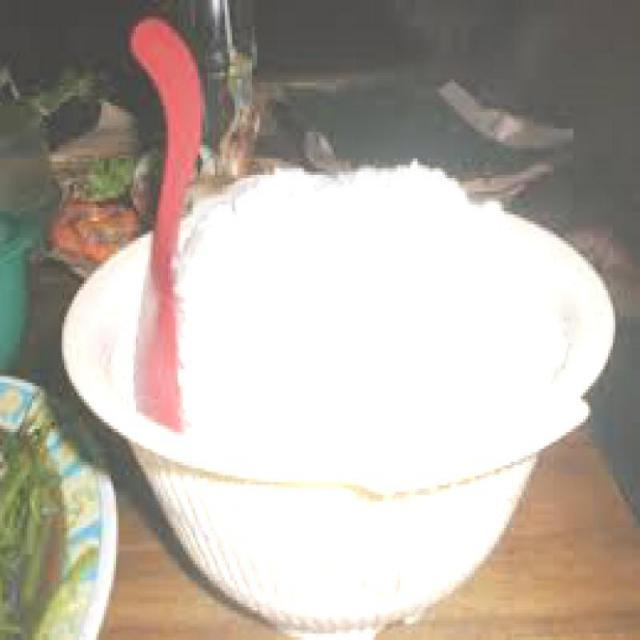Chicken -Chicken Inasal-: (175, 171, 545, 430)
